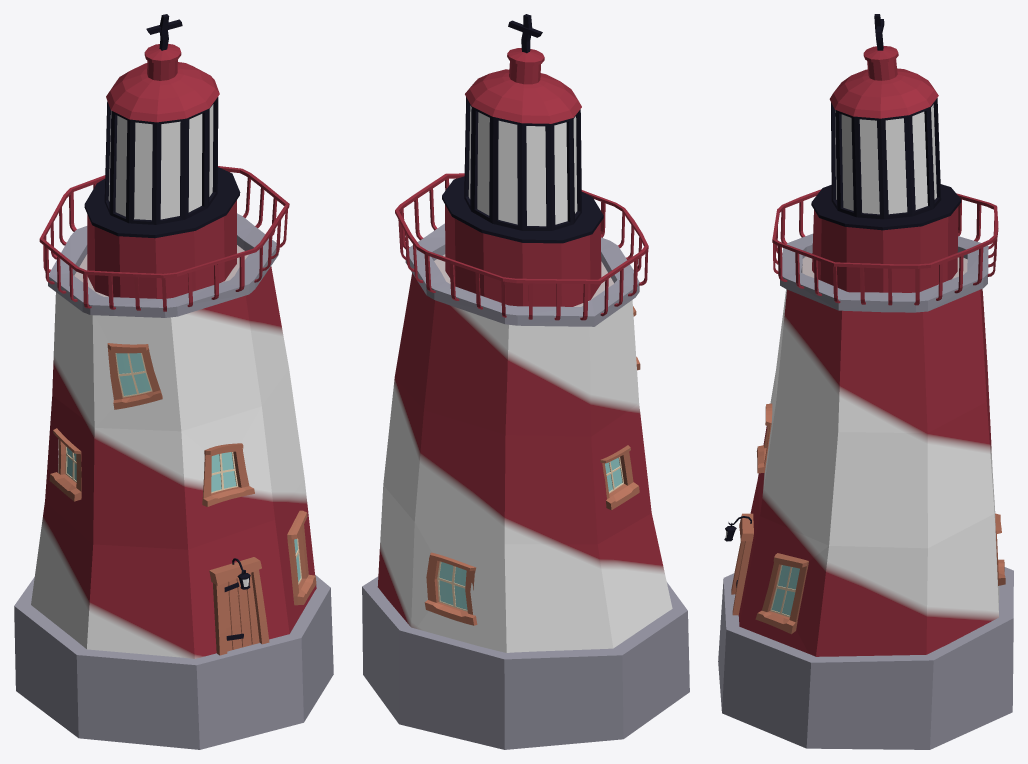
Rendered from Lighthouse_02.fbx.
3 renders of one model, left to right at view 1: azimuth 30°, elevation 25°; view 2: azimuth 150°, elevation 25°; view 3: azimuth 270°, elevation 25°, orthographic.
Parts seen in each view (by area): view 1: Lighthouse_02; view 2: Lighthouse_02; view 3: Lighthouse_02.
Boxes of the visible parts, x1=… form: Lighthouse_02: x1=14, y1=14, x2=333, y2=749; Lighthouse_02: x1=362, y1=14, x2=689, y2=749; Lighthouse_02: x1=718, y1=14, x2=1013, y2=749.
Size of the model in its own units: 648 by 1588 by 637.
